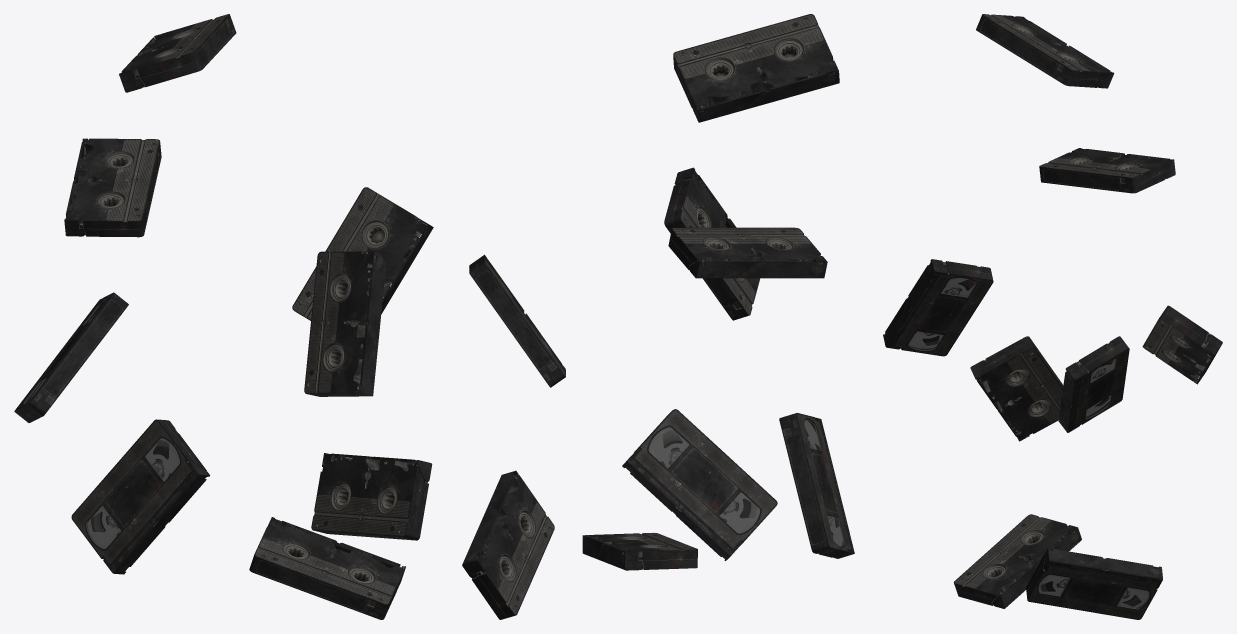
3 views of the same model, side by side, from view 1: azimuth 30°, elevation 25°; view 2: azimuth 150°, elevation 25°; view 3: azimuth 270°, elevation 25° (orthographic). The views are drawn at different scales.
Visible parts, largest first — view 1: VHS.003, VHS.006, VHS.001, VHS.002, VHS.007, VHS.005, VHS.008, VHS.004; view 2: VHS.008, VHS.004, VHS.001, VHS.007, VHS.003, VHS.006, VHS.002, VHS.005; view 3: VHS.001, VHS.006, VHS.003, VHS.002, VHS.008, VHS.007, VHS.005, VHS.004.
Part boxes in pixels (x1,y1,x2,y2): VHS.003: (71,419,209,574); VHS.006: (304,251,386,396); VHS.001: (311,453,432,540); VHS.002: (249,517,405,619); VHS.007: (64,138,161,237); VHS.005: (292,187,433,320); VHS.008: (119,14,236,92); VHS.004: (14,292,128,422); VHS.008: (673,14,839,122); VHS.004: (622,409,777,560); VHS.001: (462,470,554,619); VHS.007: (668,227,827,278); VHS.003: (779,413,854,558); VHS.006: (664,167,760,320); VHS.002: (582,532,697,570); VHS.005: (469,254,565,387); VHS.001: (1026,548,1162,619); VHS.006: (883,259,993,356); VHS.003: (970,336,1063,441); VHS.002: (953,514,1081,608); VHS.008: (976,14,1114,88); VHS.007: (1039,148,1175,193); VHS.005: (1058,336,1129,432); VHS.004: (1142,305,1222,384).
Size of the model in its own units: 5.73 by 9.01 by 5.41.
1 material, 1 textured.
